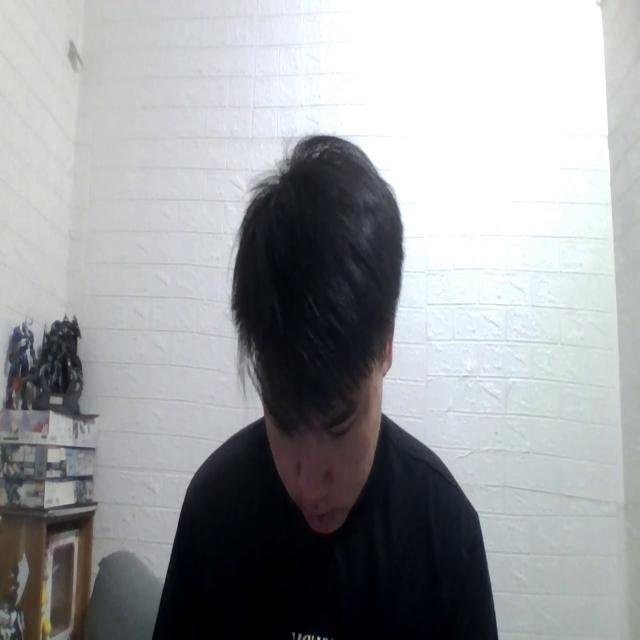student: (152, 135, 501, 640)
